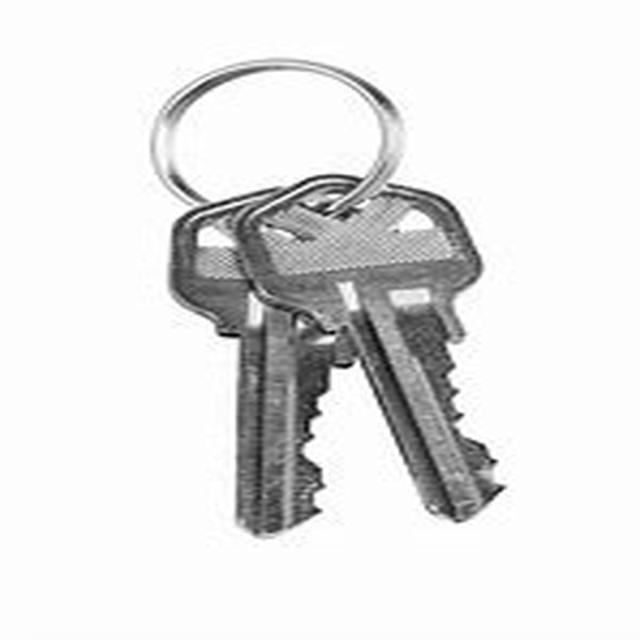key: (130, 22, 509, 584)
